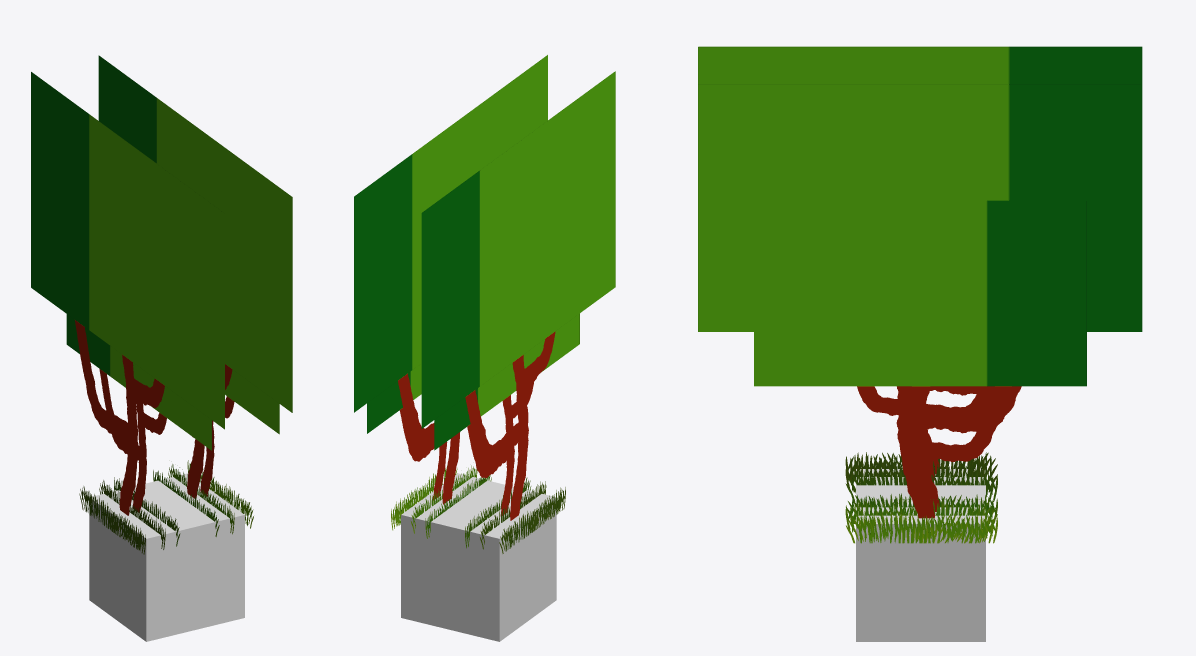
Rendered from palikka.fbx.
The picture shows the model from 3 angles, left to right: view 1: azimuth 30°, elevation 25°; view 2: azimuth 150°, elevation 25°; view 3: azimuth 270°, elevation 25°; orthographic projection. The views are drawn at different scales.
Parts seen in each view (by area): view 1: Background TreeLarge, ForegroundTreeLarge, Palikka, Background TreeSmall, Grass, ForegroundTreeSmall; view 2: Background TreeLarge, ForegroundTreeLarge, Palikka, Background TreeSmall, Grass, ForegroundTreeSmall; view 3: ForegroundTreeLarge, ForegroundTreeSmall, Background TreeLarge, Palikka, Grass.
Boxes of the visible parts, box(x1,y1,x2,y2) form: Background TreeLarge: box(31, 72, 224, 515); ForegroundTreeLarge: box(98, 55, 292, 498); Palikka: box(89, 473, 244, 641); Background TreeSmall: box(66, 314, 211, 512); Grass: box(79, 460, 253, 554); ForegroundTreeSmall: box(192, 369, 279, 496); Background TreeLarge: box(421, 71, 615, 520); ForegroundTreeLarge: box(354, 55, 547, 504); Palikka: box(401, 473, 556, 641); Background TreeSmall: box(434, 313, 579, 516); Grass: box(391, 465, 565, 553); ForegroundTreeSmall: box(367, 363, 447, 500); ForegroundTreeLarge: box(698, 84, 1142, 511); ForegroundTreeSmall: box(754, 200, 1086, 518); Background TreeLarge: box(698, 46, 1142, 474); Palikka: box(856, 469, 985, 641); Grass: box(845, 452, 997, 543).
Bounding box in the file's own units: 110 × 490 × 400.
